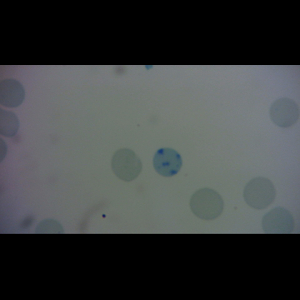aggregate reticulocyte: (151, 147, 184, 178)
erythrocyte: (109, 147, 144, 183), (242, 176, 278, 211), (188, 187, 225, 221), (268, 96, 300, 129), (261, 207, 295, 234)
